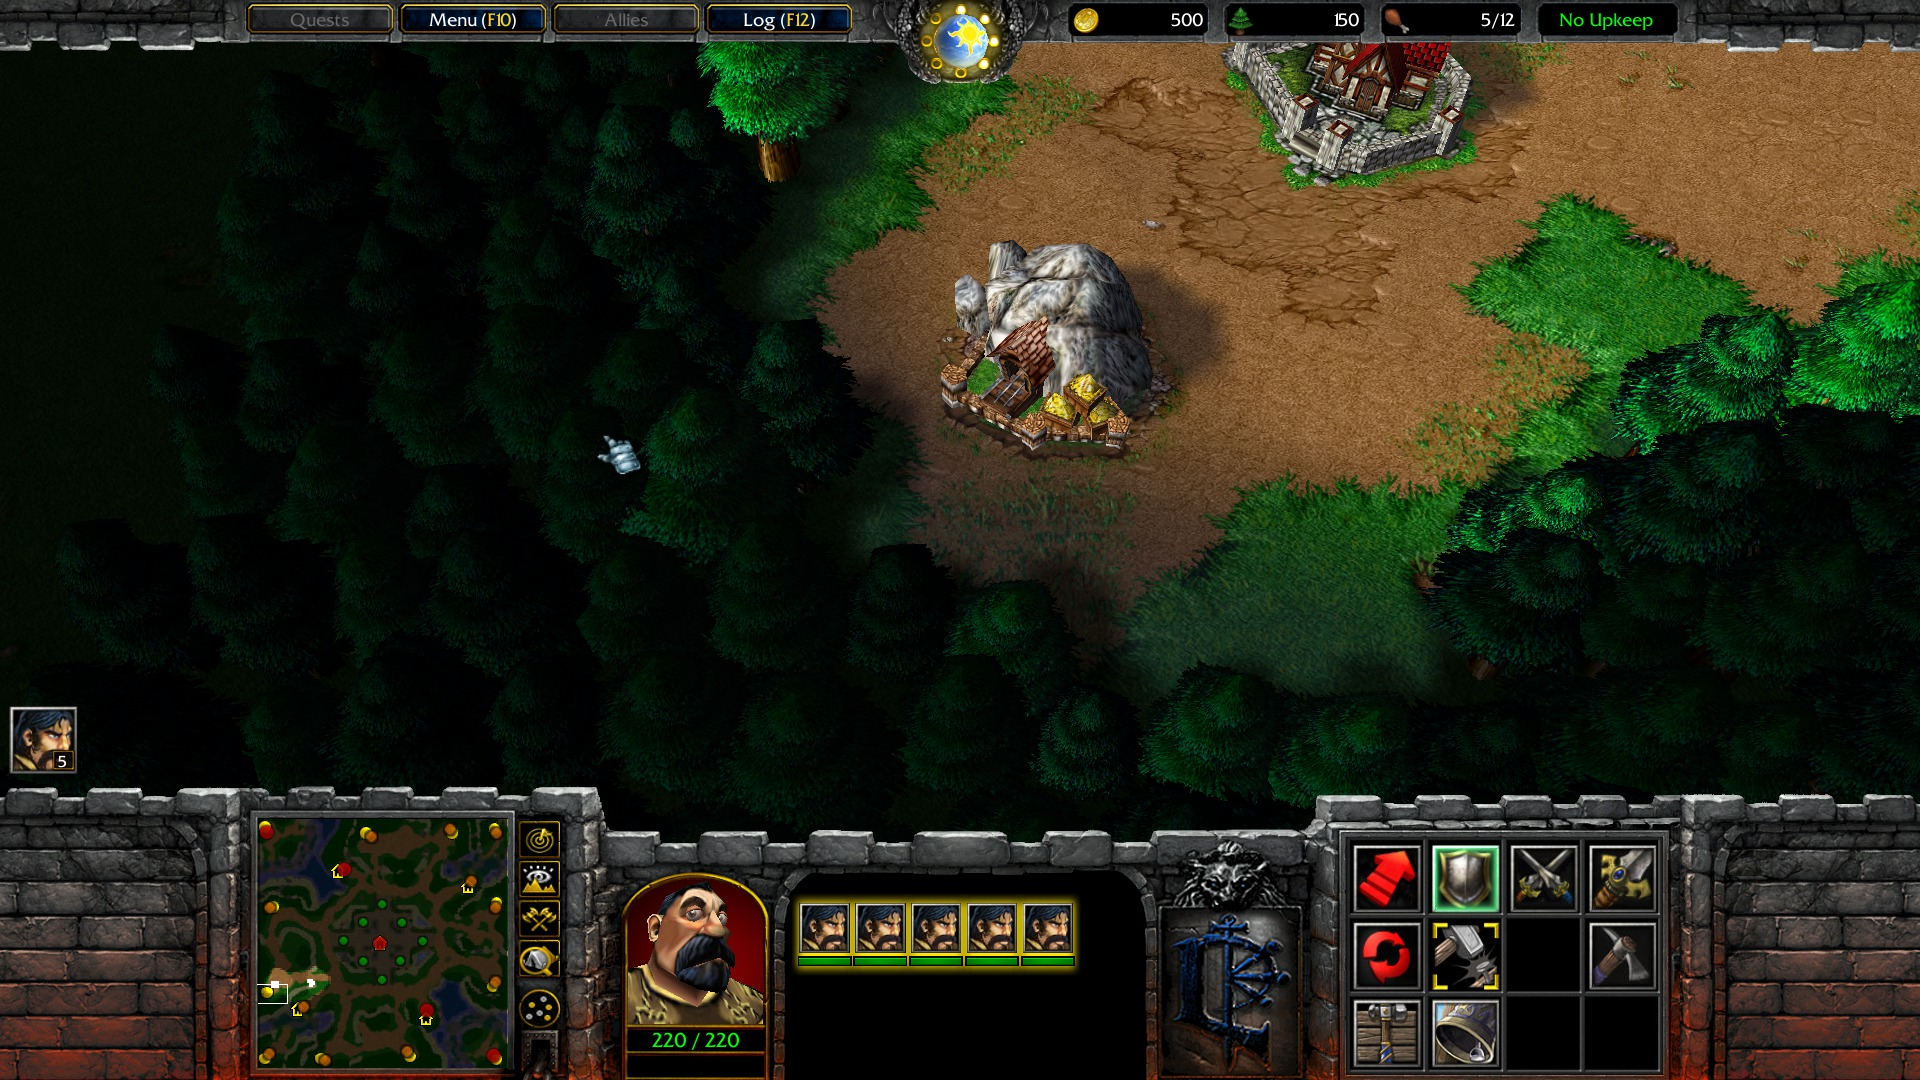Townhall: (1218, 42, 1484, 194)
